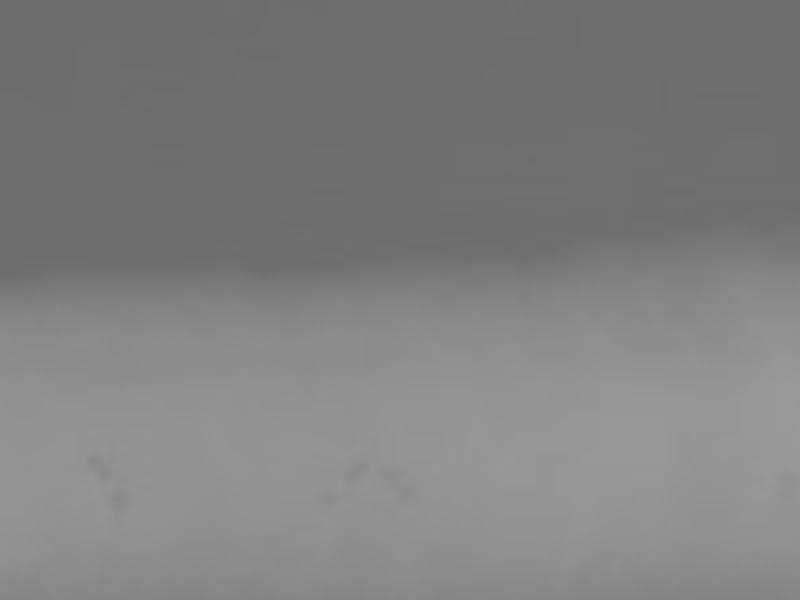defect: (379, 467, 418, 502), (333, 461, 365, 492), (87, 454, 111, 478), (106, 490, 127, 515)
